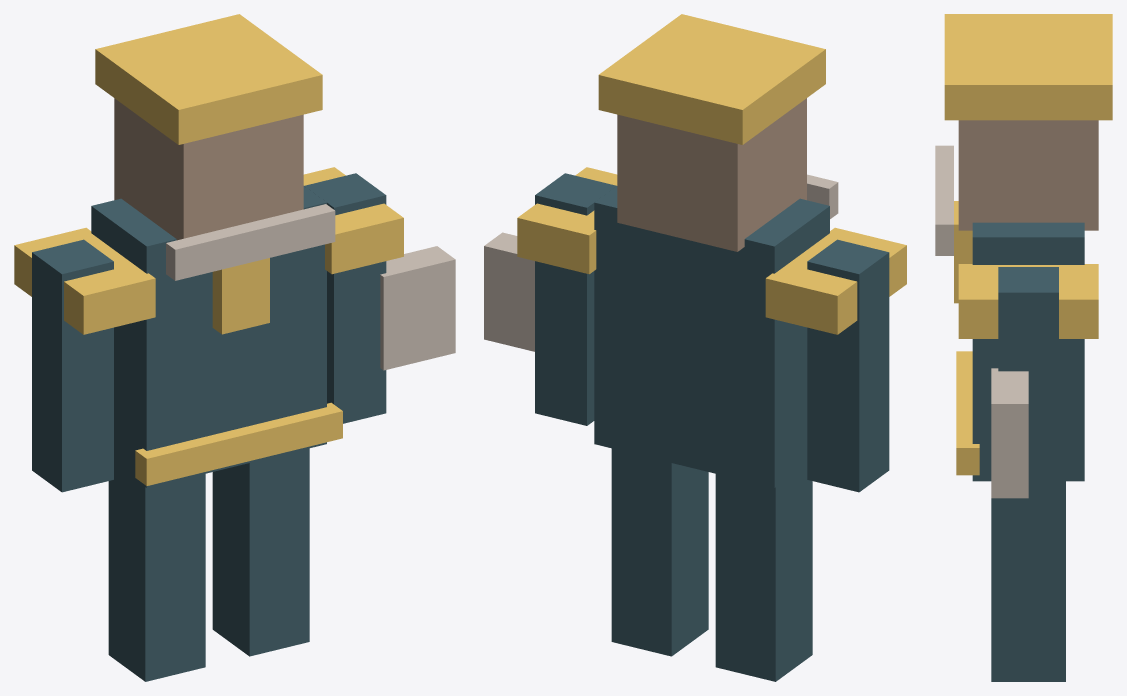
File: 01_nix_cinderholt_keeper_near_transformation.glb
3 views of the same model, side by side, from view 1: azimuth 30°, elevation 25°; view 2: azimuth 150°, elevation 25°; view 3: azimuth 270°, elevation 25° (orthographic).
Visible parts, largest first — view 1: Nix Cinderholt, Keeper near Transformation; view 2: Nix Cinderholt, Keeper near Transformation; view 3: Nix Cinderholt, Keeper near Transformation.
Part boxes in pixels (bbox=[...]): Nix Cinderholt, Keeper near Transformation: bbox=[14, 14, 455, 681]; Nix Cinderholt, Keeper near Transformation: bbox=[484, 14, 906, 681]; Nix Cinderholt, Keeper near Transformation: bbox=[935, 14, 1112, 681].
Bounding box in the file's own units: 0.97 × 1.39 × 0.378.
